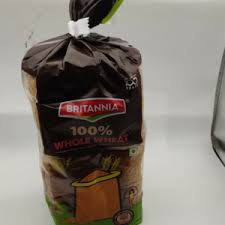bread: (25, 4, 145, 220)
